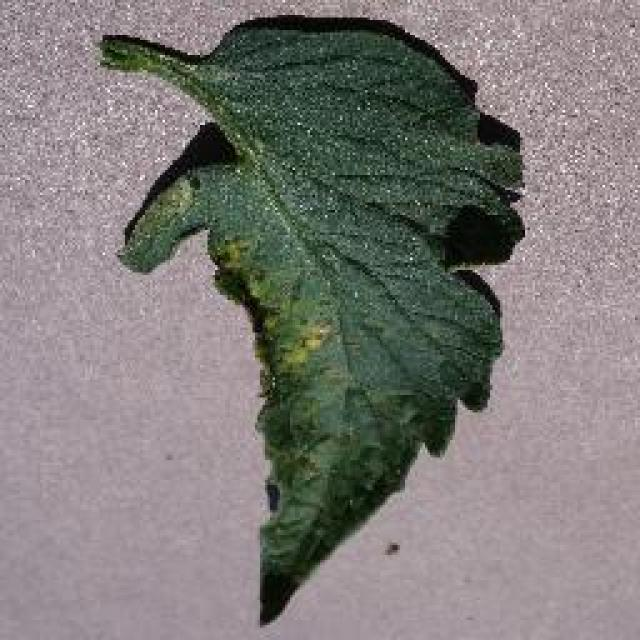Tomato___Septoria_leaf_spot: (100, 18, 522, 620)
